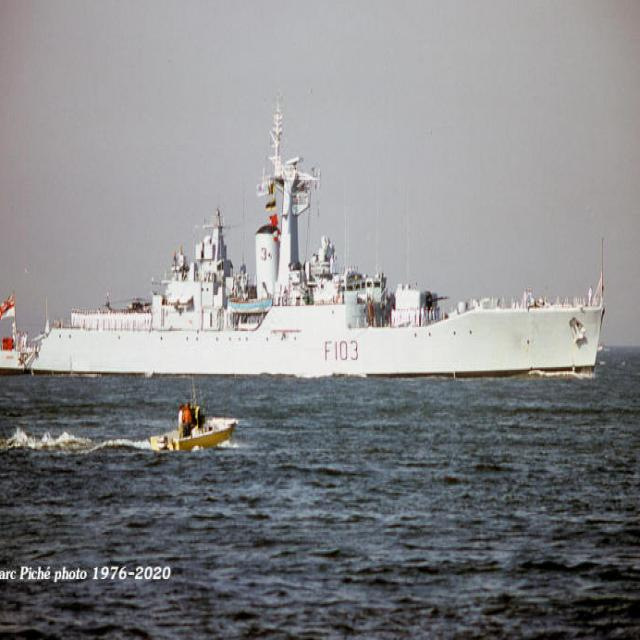Fragata: (1, 82, 612, 383)
